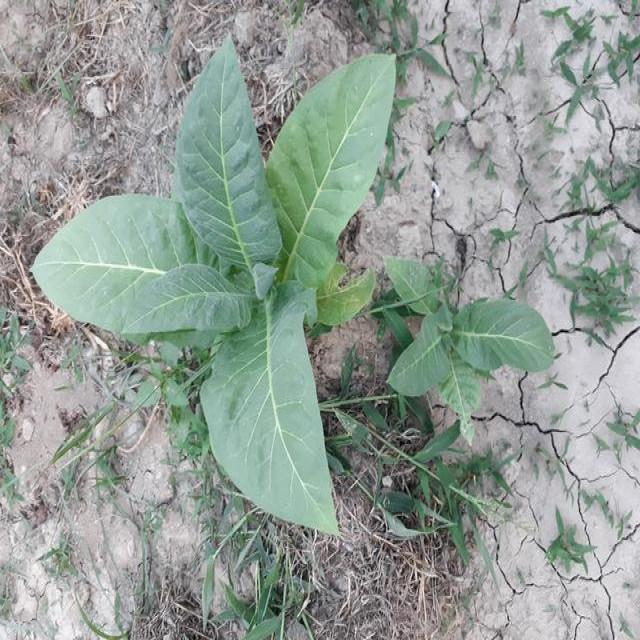crop: (32, 36, 384, 558)
